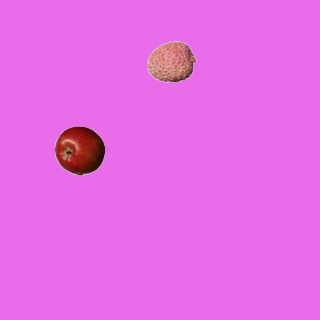Apple Braeburn: (54, 125, 104, 175)
Lychee: (146, 36, 196, 86)
